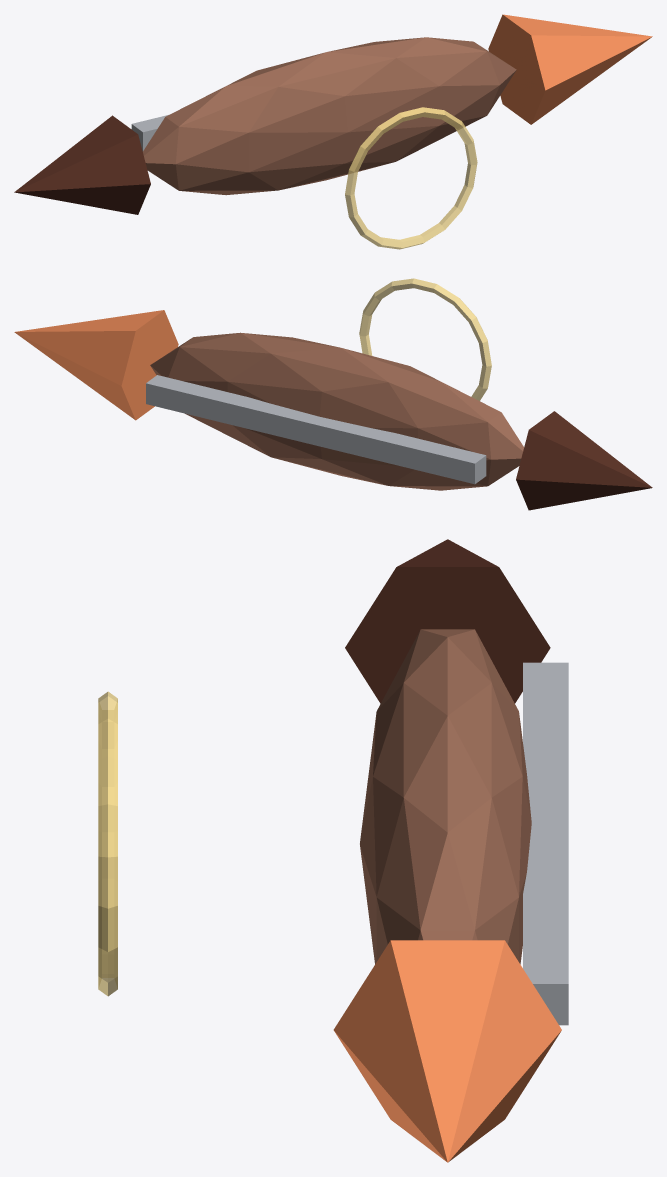
The model's file is 05_skyship_hull.glb.
3 renders of one model, top to bottom at view 1: azimuth 30°, elevation 25°; view 2: azimuth 150°, elevation 25°; view 3: azimuth 270°, elevation 25°, orthographic. The views are drawn at different scales.
Visible parts, largest first — view 1: hull_low_poly, bow_upgrade, stern_fin, size_class_ring, keel_plate; view 2: hull_low_poly, keel_plate, bow_upgrade, stern_fin, size_class_ring; view 3: hull_low_poly, bow_upgrade, stern_fin, keel_plate, size_class_ring.
Boxes of the visible parts, x1=… form: hull_low_poly: x1=143, y1=37, x2=516, y2=195; bow_upgrade: x1=488, y1=14, x2=652, y2=124; stern_fin: x1=14, y1=115, x2=150, y2=214; size_class_ring: x1=345, y1=107, x2=477, y2=249; keel_plate: x1=131, y1=115, x2=168, y2=151; hull_low_poly: x1=150, y1=332, x2=523, y2=490; keel_plate: x1=146, y1=375, x2=486, y2=484; bow_upgrade: x1=14, y1=310, x2=178, y2=420; stern_fin: x1=516, y1=411, x2=652, y2=510; size_class_ring: x1=359, y1=278, x2=491, y2=400; hull_low_poly: x1=360, y1=629, x2=531, y2=964; bow_upgrade: x1=333, y1=940, x2=561, y2=1162; stern_fin: x1=345, y1=539, x2=550, y2=703; keel_plate: x1=523, y1=662, x2=568, y2=1025; size_class_ring: x1=98, y1=691, x2=117, y2=996.
Size of the model in its own units: 4.52 by 0.9237 by 1.44.
